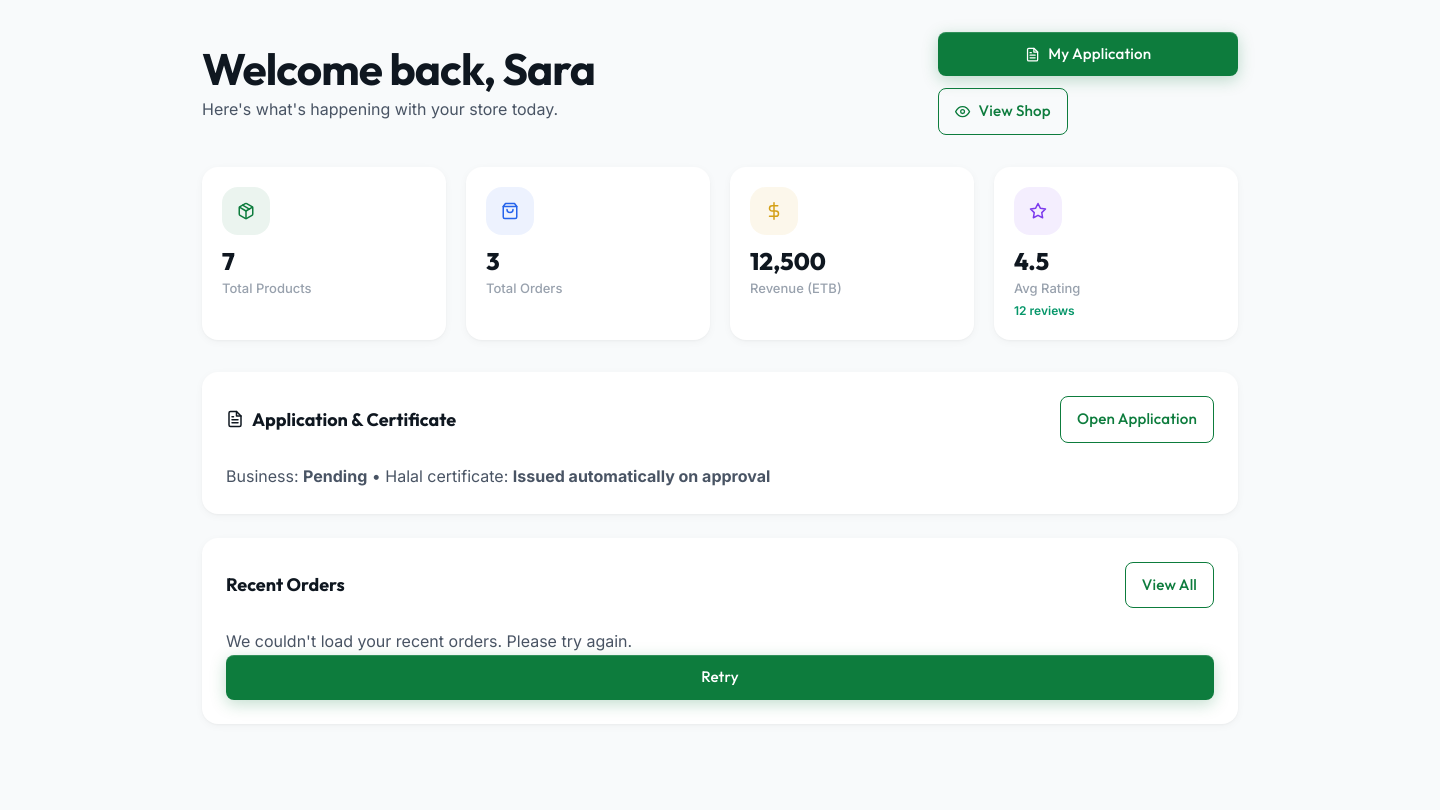
Test case: MerchantDashboard — real data only › retrying a failed orders request updates only the orders slice
expect the element with test id "orders-error" is shown: met, box [226,628,1214,700]
Click the button with test id "retry-orders".
click(720, 677)  # box [226,655,1214,700]
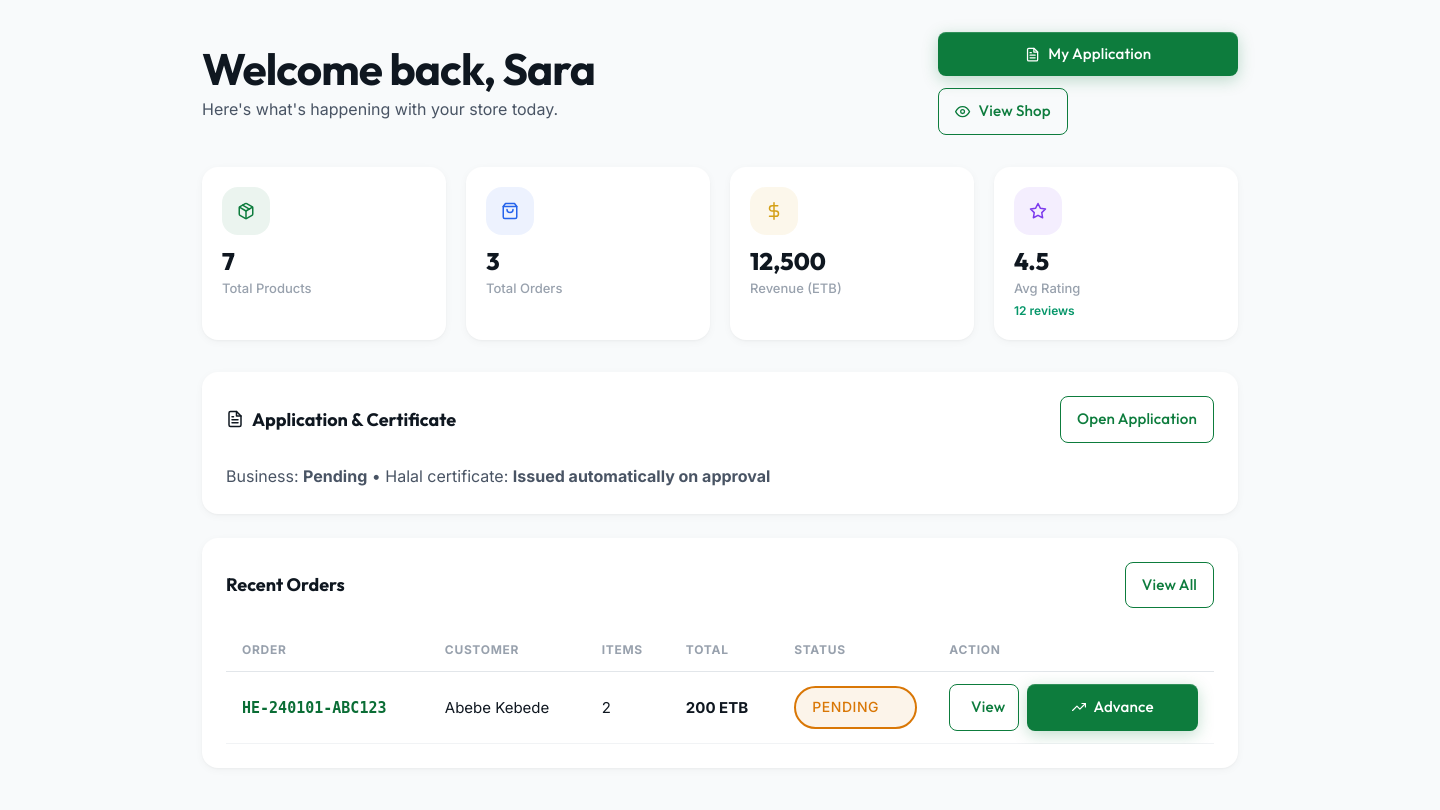
expect the element with test id "orders-table" is shown: met, box [226,628,1214,744]
expect the text "HE-240101-ABC123" is shown: met, box [226,672,429,744]
